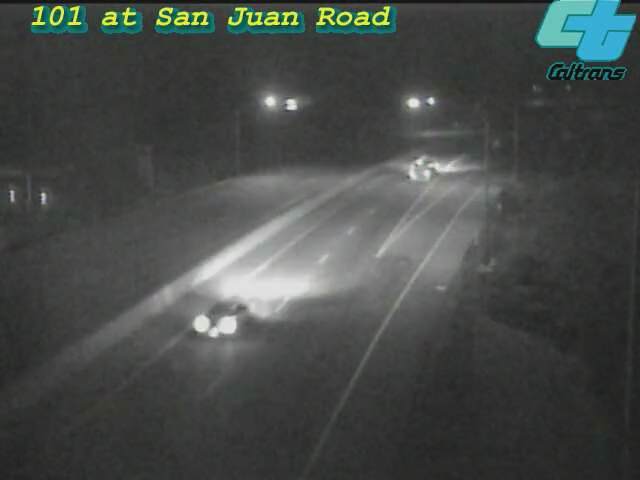vehicle: (387, 126, 467, 206), (184, 270, 264, 350)
